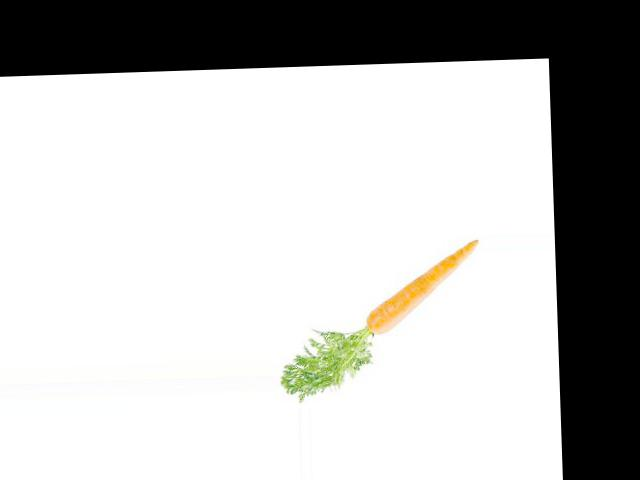carrot: (359, 235, 483, 336)
